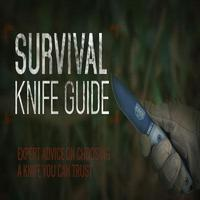knife: (108, 72, 195, 190)
